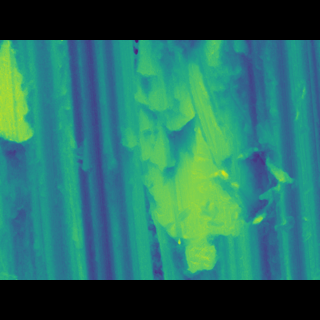Loch: (120, 69, 304, 252), (0, 71, 36, 150)
